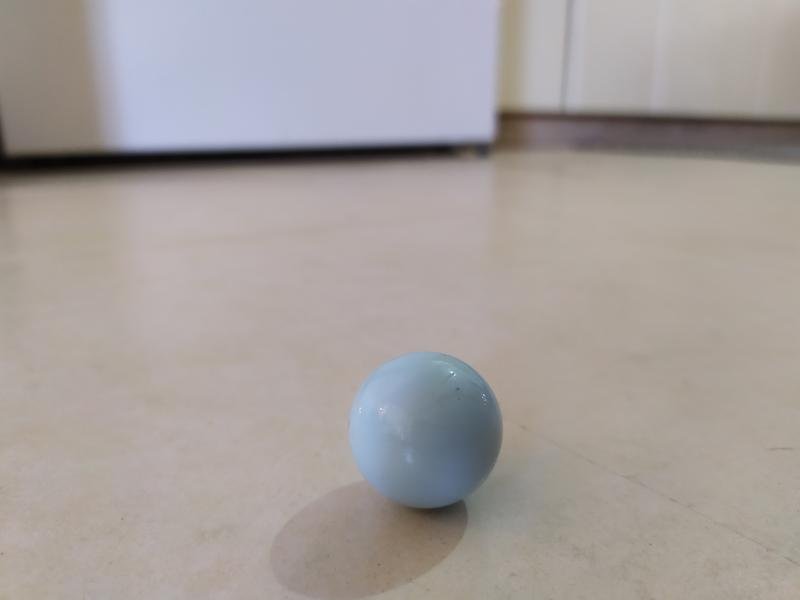Warning: (342, 345, 508, 515)
